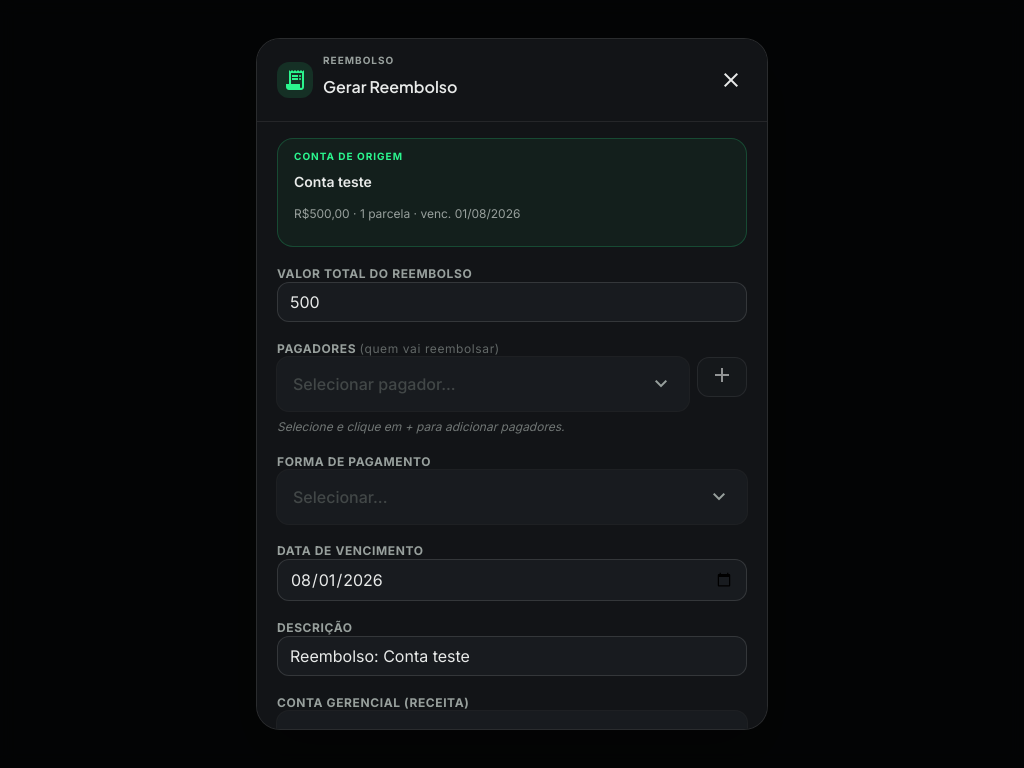
Test: ReembolsoModal › shows error when forma de pagamento is missing
The image size is (1024, 768).
Click the dropdown named "Adicionar pagador" at (483, 384), box [277,357,689,411]
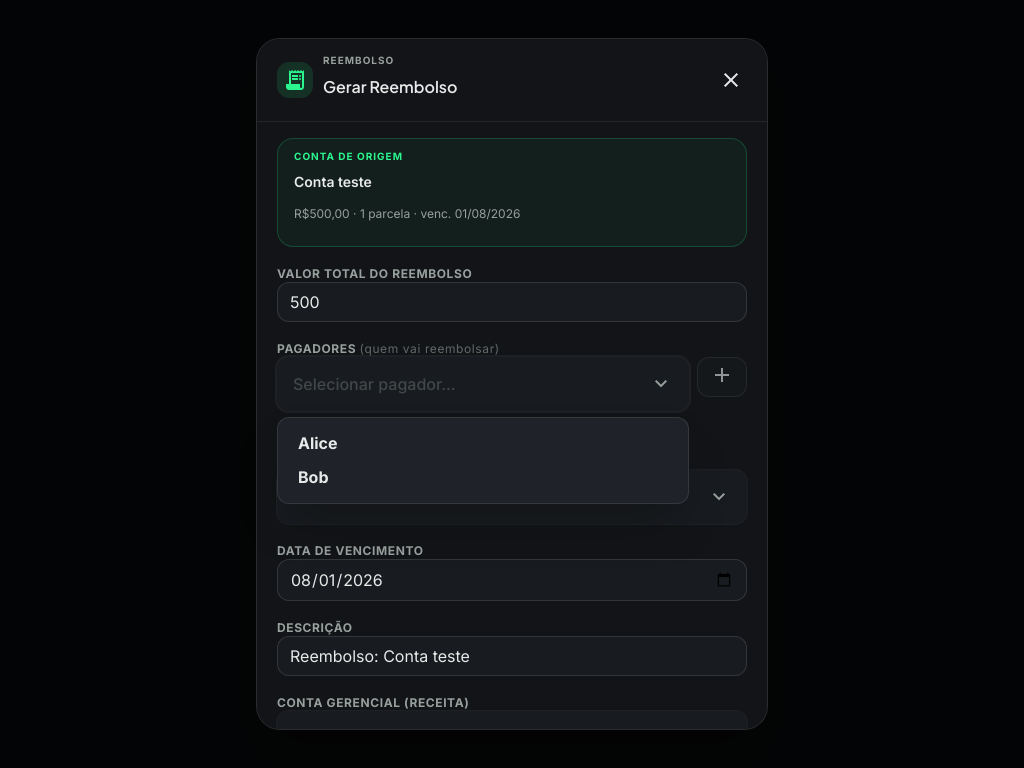
Click the button "Alice" at (318, 443), box [286,426,680,460]
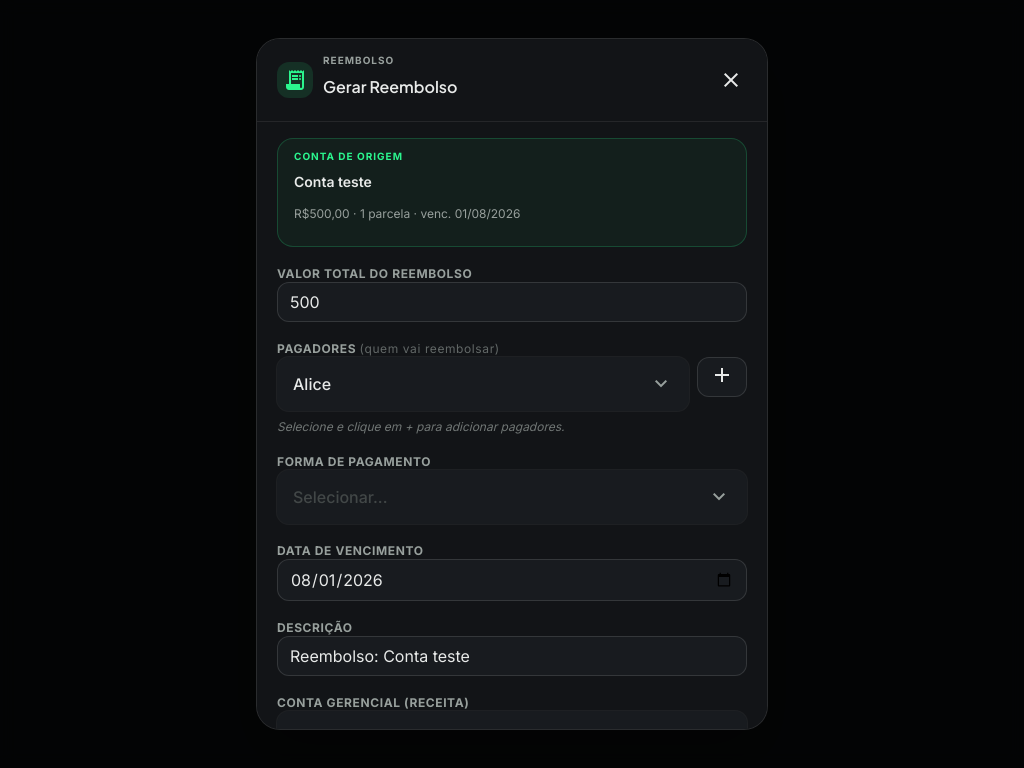
Click the button named "add" at (722, 377), box [697,357,747,397]
(page scrolled)
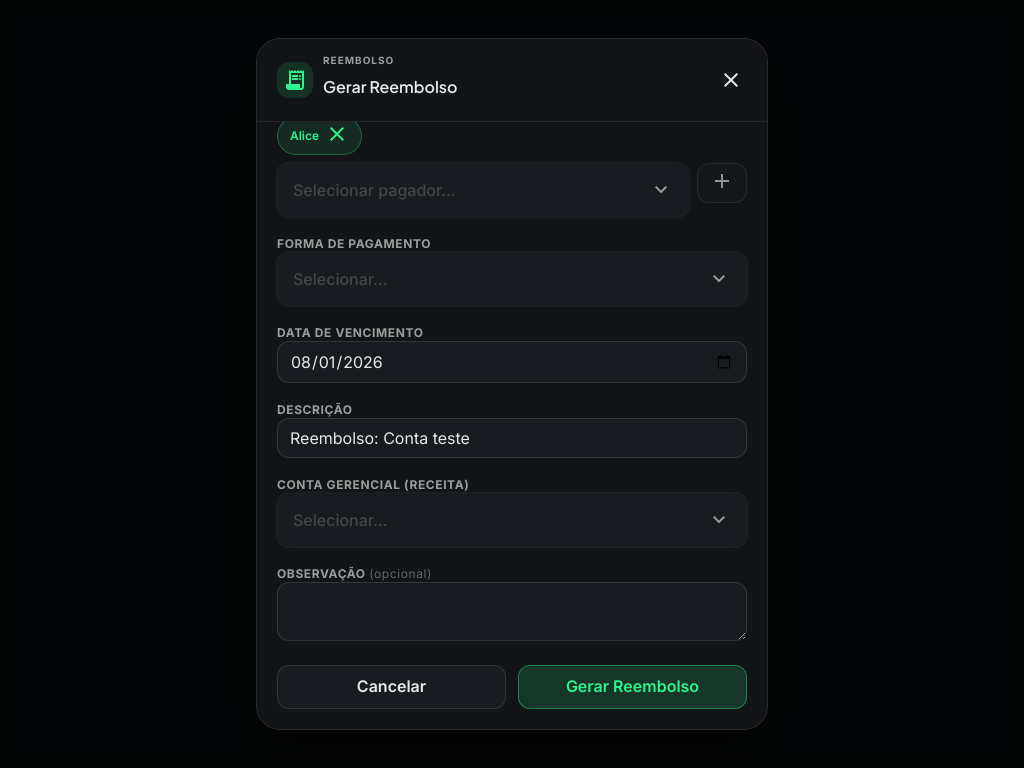
Click the button "Gerar Reembolso" at (632, 687), box [518,665,747,709]
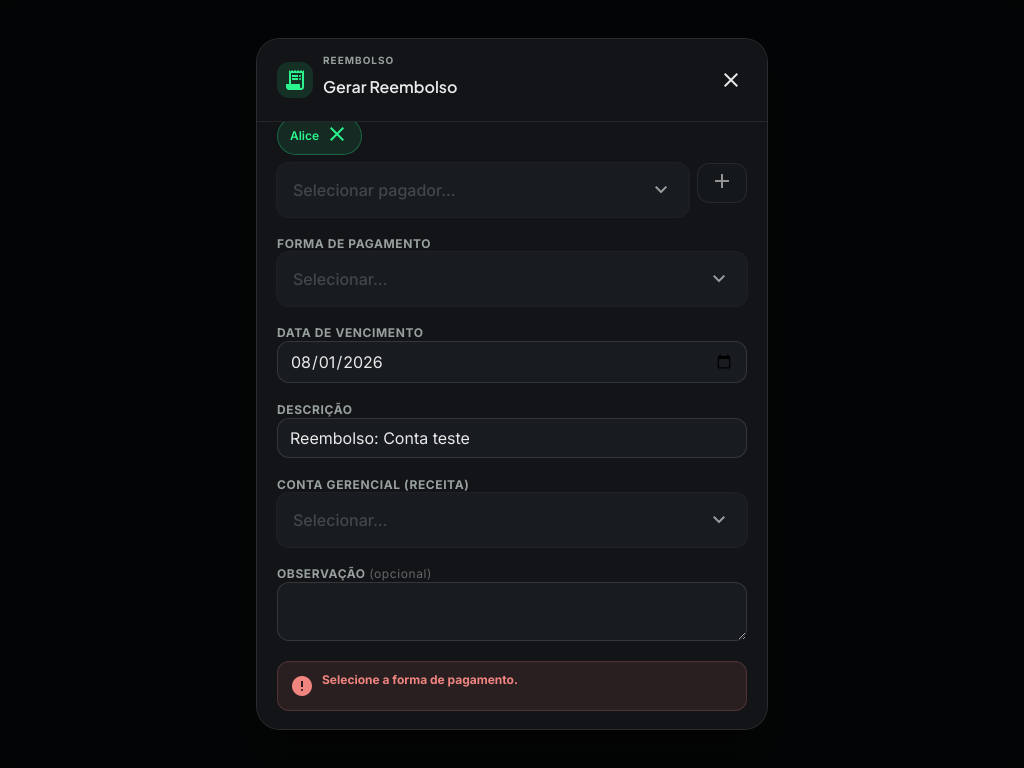
Result: the text "Selecione a forma de pagamento." is shown at [322,672,518,688]
